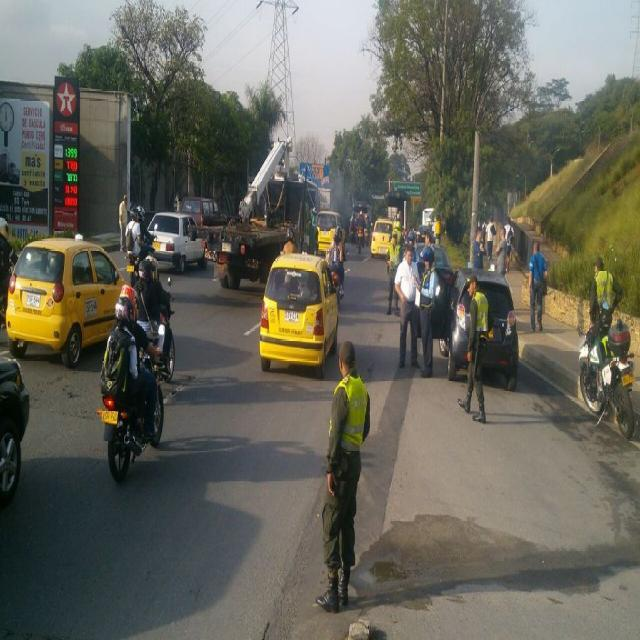car: (261, 250, 337, 374)
